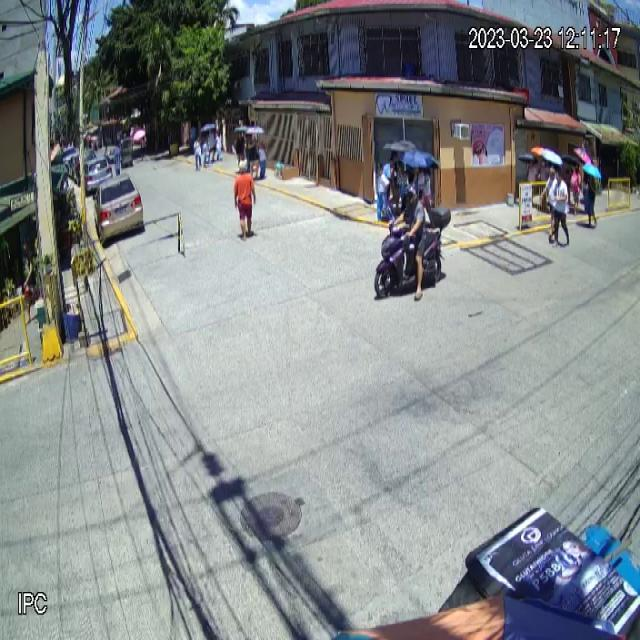Car: (93, 172, 144, 242)
Motorcycle: (374, 200, 454, 299)
